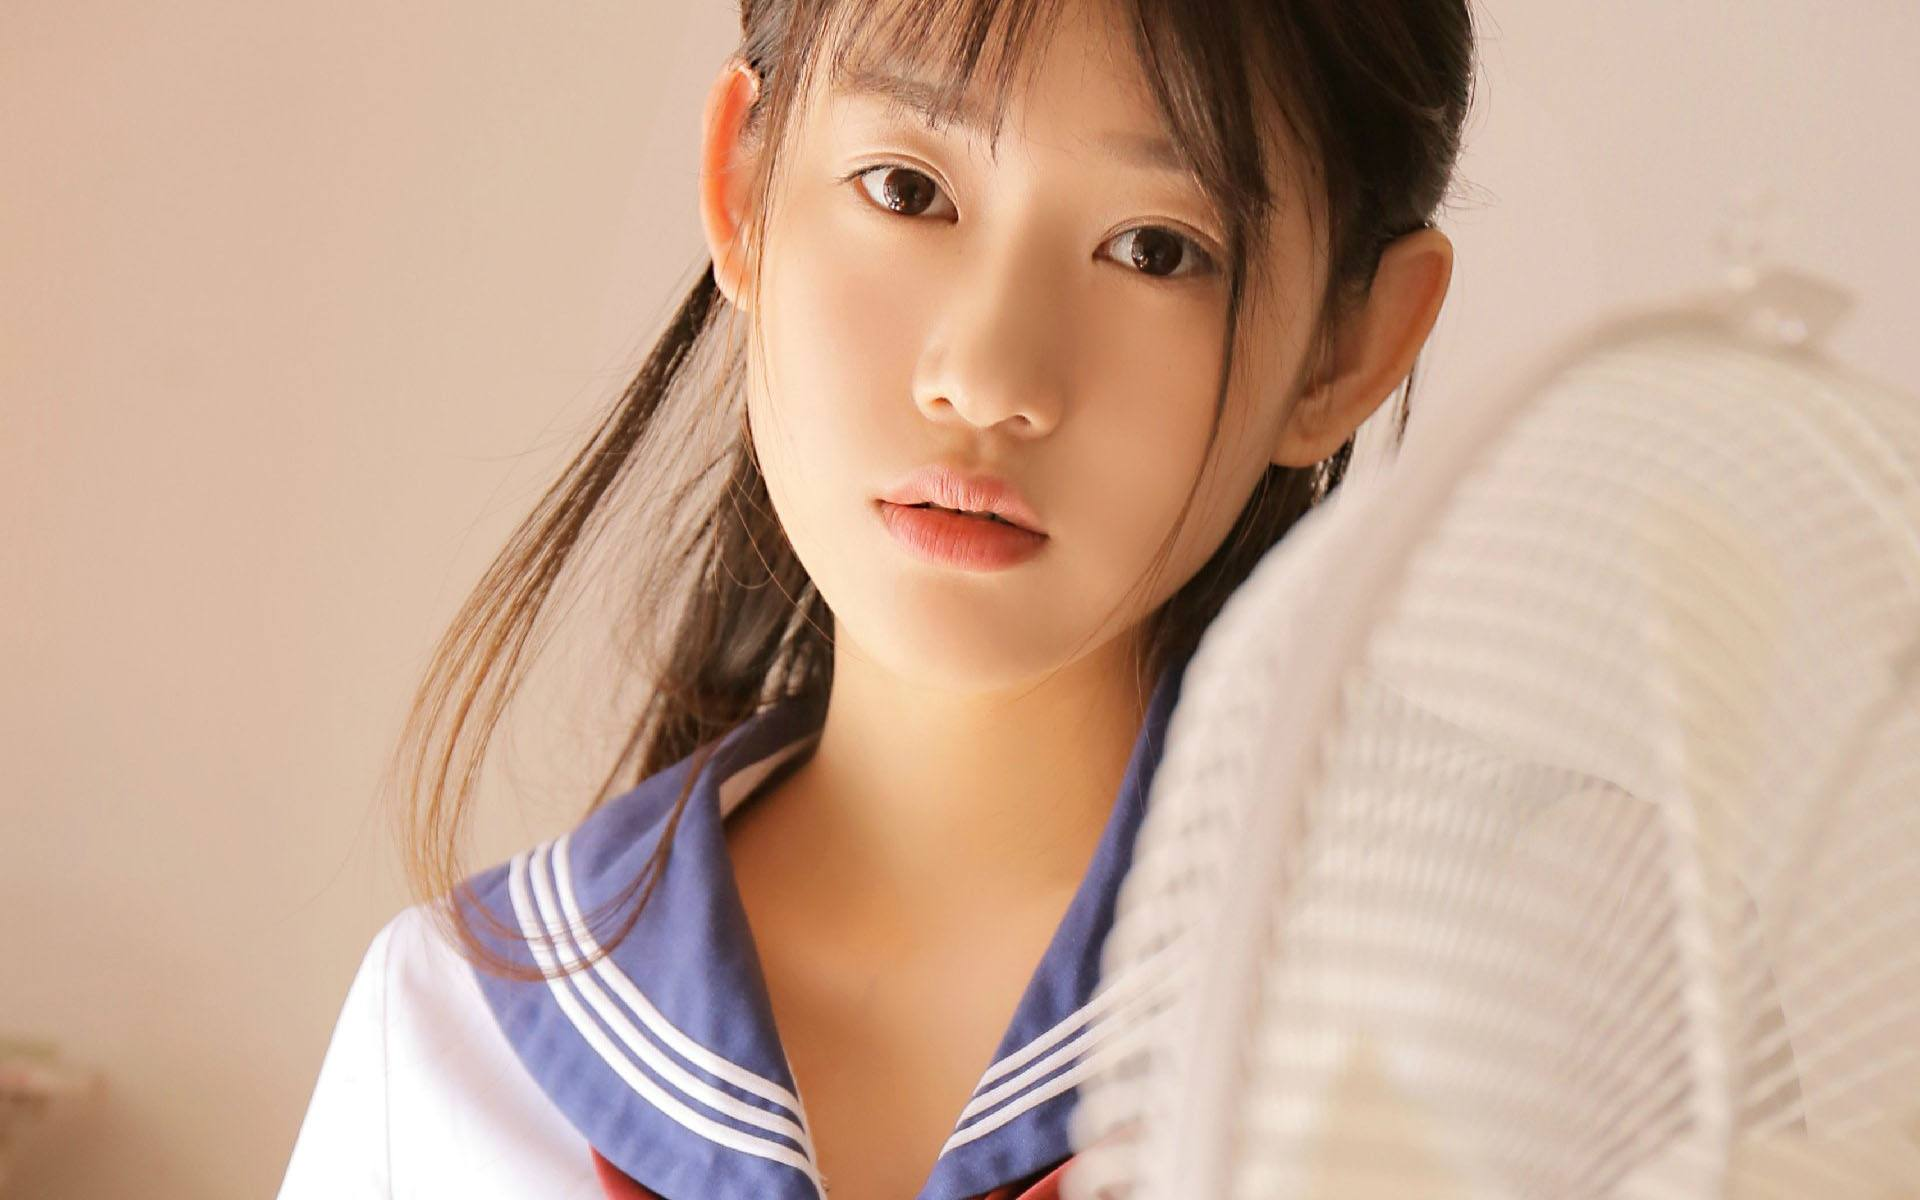person: (450, 10, 1494, 1040)
